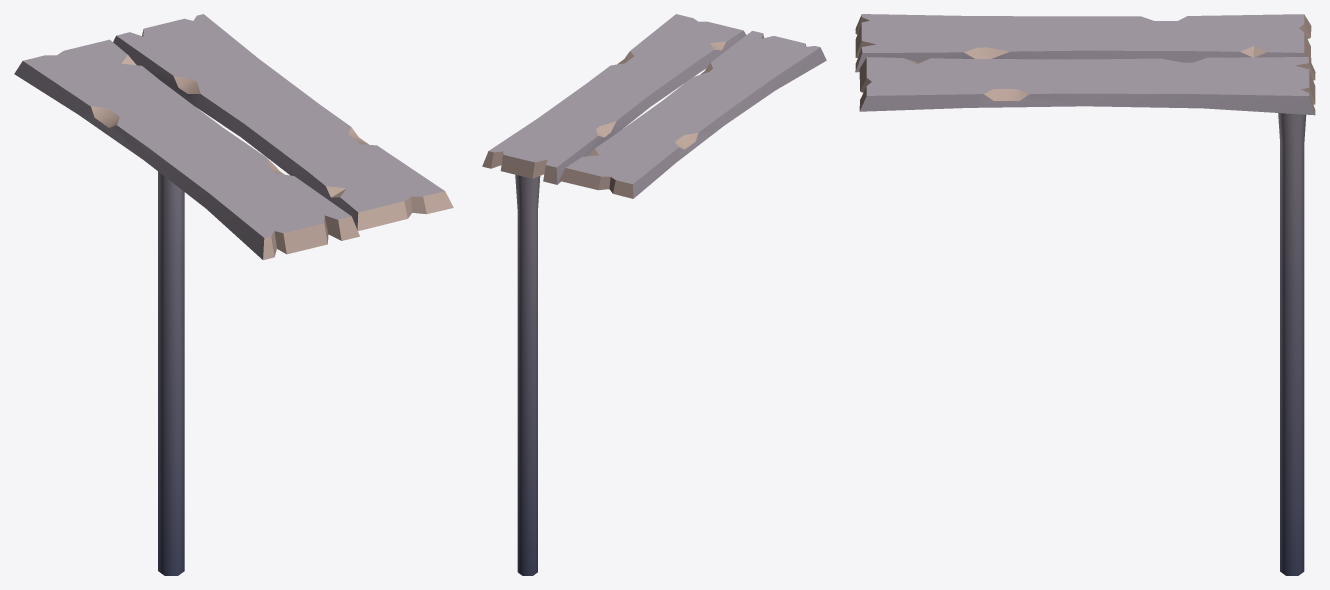
The model's file is Lane-forest_gap_fill_R.glb.
3 views of the same model, side by side, from view 1: azimuth 30°, elevation 25°; view 2: azimuth 150°, elevation 25°; view 3: azimuth 270°, elevation 25° (orthographic). The views are drawn at different scales.
Parts seen in each view (by area): view 1: Lane-forest_gap_fill_R; view 2: Lane-forest_gap_fill_R; view 3: Lane-forest_gap_fill_R.
Part boxes in pixels (x1,y1,x2,y2): Lane-forest_gap_fill_R: [14, 14, 453, 575]; Lane-forest_gap_fill_R: [482, 14, 826, 575]; Lane-forest_gap_fill_R: [855, 14, 1315, 575].
Bounding box in the file's own units: 2.62 × 6.99 × 5.9.
